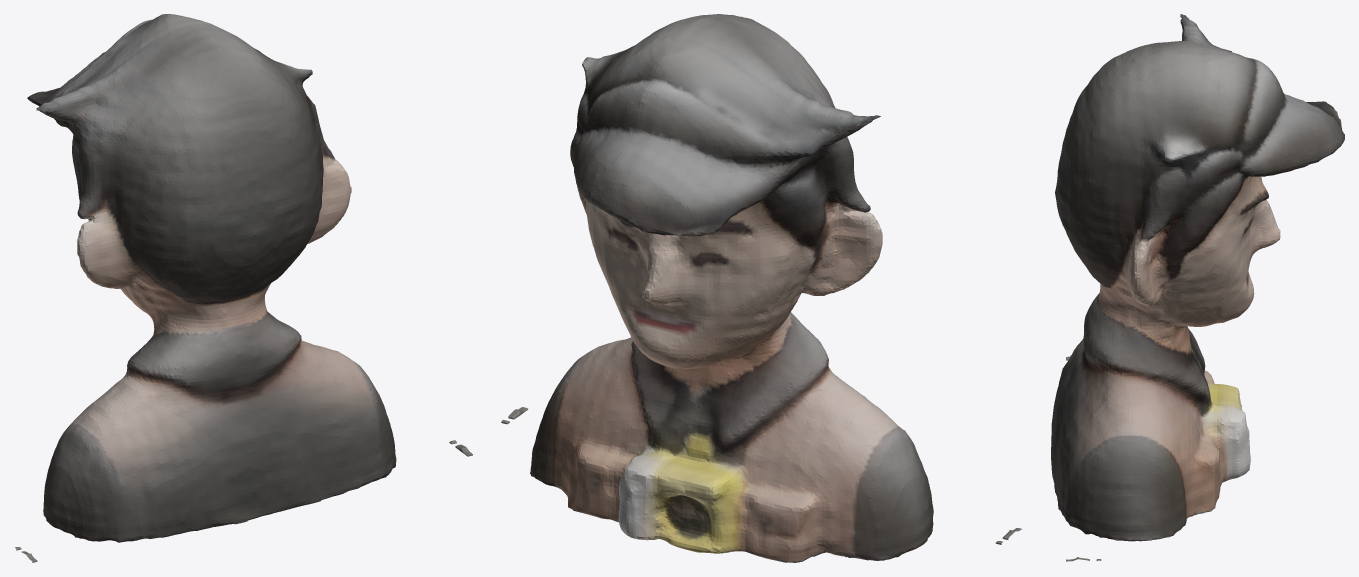
Rendered from color_mesh.glb.
3 views of the same model, side by side, from view 1: azimuth 30°, elevation 25°; view 2: azimuth 150°, elevation 25°; view 3: azimuth 270°, elevation 25° (orthographic). The views are drawn at different scales.
Parts seen in each view (by area): view 1: world; view 2: world; view 3: world.
Boxes of the visible parts, box(x1,y1,x2,y2) form: world: box(15, 14, 472, 562); world: box(501, 14, 1021, 562); world: box(1051, 14, 1344, 561).
Bounding box in the file's own units: 2.08 × 1.99 × 1.26.
